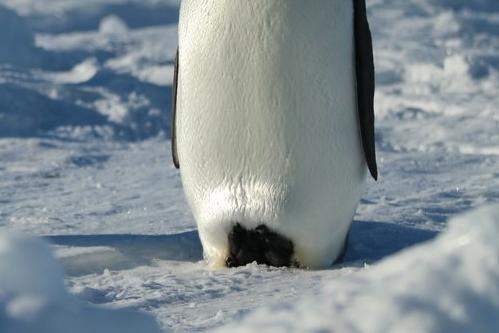Emperor Penguin: (124, 0, 406, 297)
